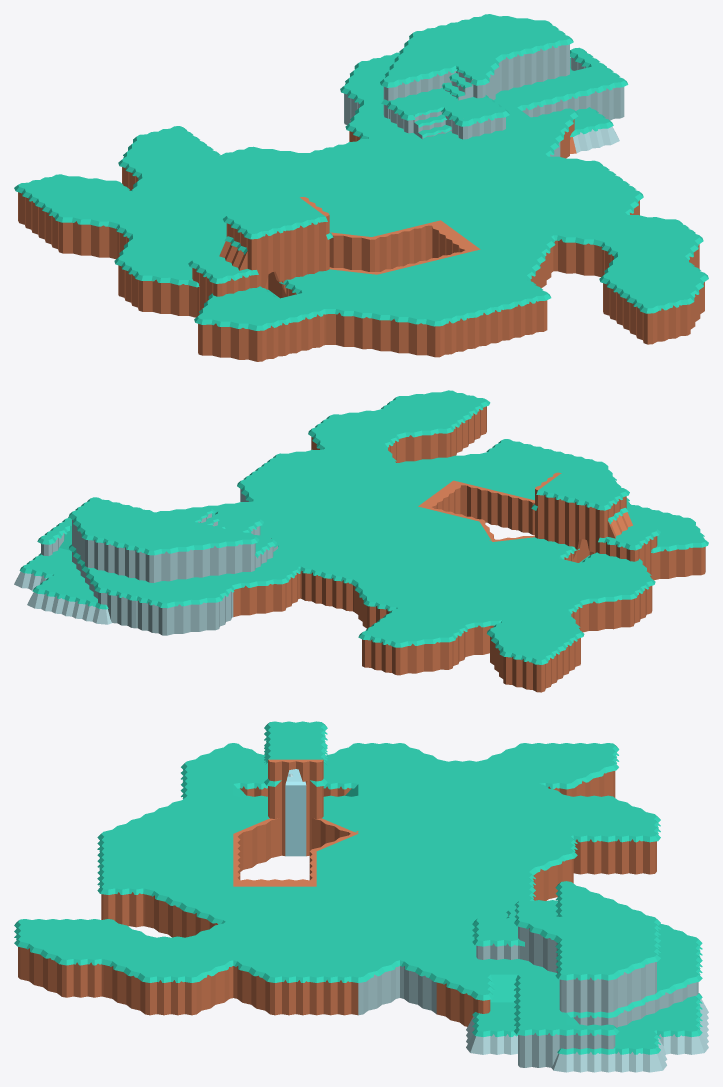
File: Island.fbx
3 renders of one model, top to bottom at view 1: azimuth 30°, elevation 25°; view 2: azimuth 150°, elevation 25°; view 3: azimuth 270°, elevation 25°, orthographic. The views are drawn at different scales.
Parts seen in each view (by area): view 1: mergedBlocks; view 2: mergedBlocks; view 3: mergedBlocks.
Part boxes in pixels (bbox=[...]): mergedBlocks: bbox=[14, 14, 708, 361]; mergedBlocks: bbox=[14, 390, 708, 692]; mergedBlocks: bbox=[14, 721, 708, 1072].
Bounding box in the file's own units: 167 × 25 × 167.
